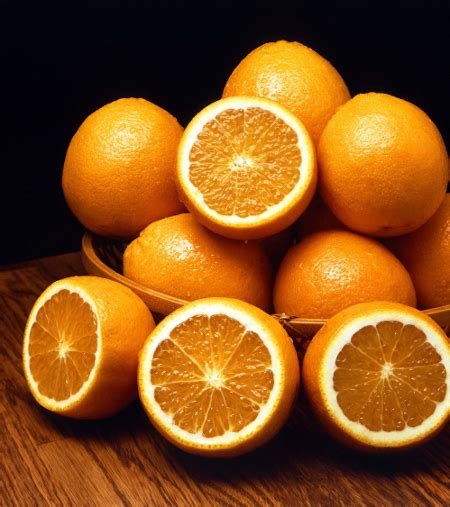orange: (316, 90, 450, 237), (57, 98, 198, 229), (274, 213, 415, 318), (120, 213, 271, 307), (217, 42, 354, 116)
